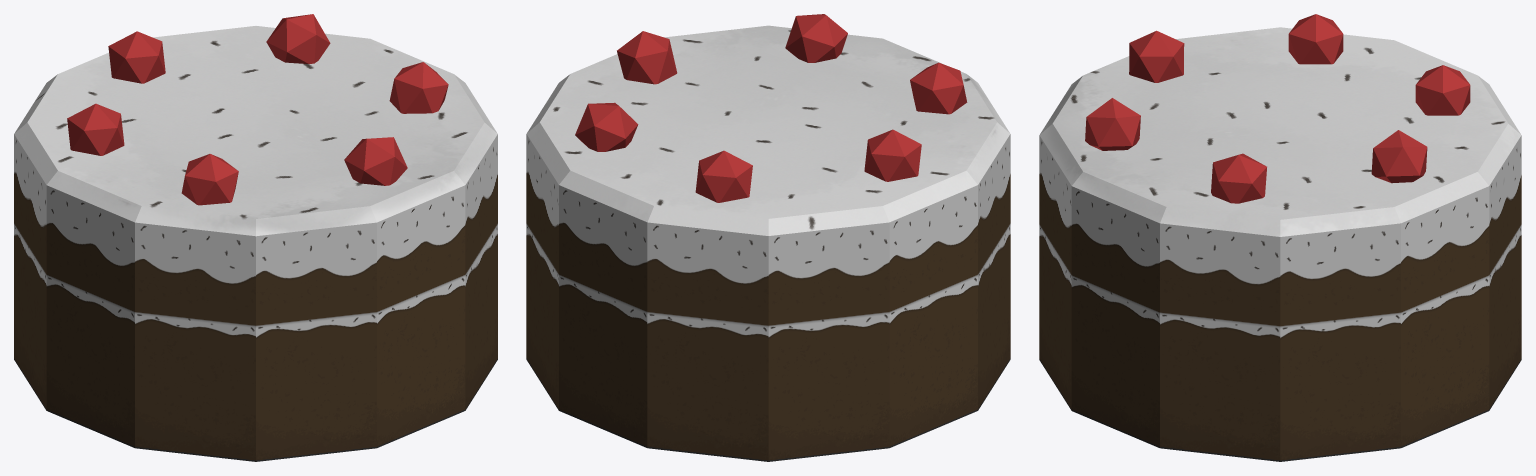
The model's file is cake_1.fbx.
3 renders of one model, left to right at view 1: azimuth 30°, elevation 25°; view 2: azimuth 150°, elevation 25°; view 3: azimuth 270°, elevation 25°, orthographic.
Visible parts, largest first — view 1: cake_1; view 2: cake_1; view 3: cake_1.
Boxes of the visible parts, x1=… form: cake_1: x1=14, y1=14, x2=497, y2=461; cake_1: x1=526, y1=14, x2=1010, y2=461; cake_1: x1=1039, y1=14, x2=1521, y2=461.
Bounding box in the file's own units: 24.5 × 15.52 × 24.5.
